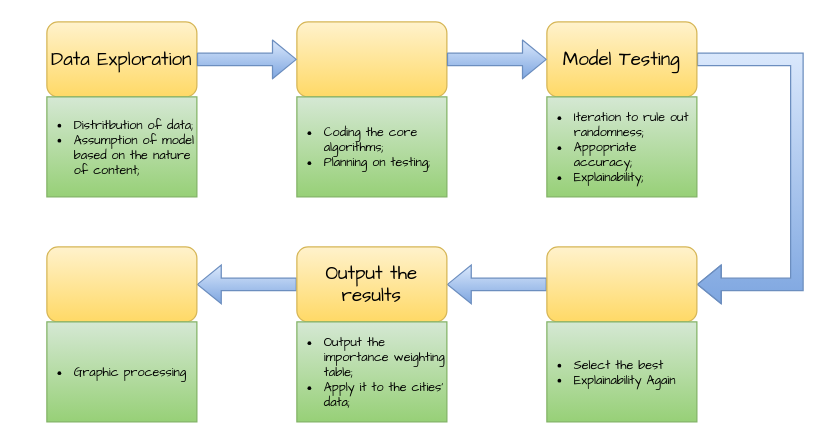
Some shapes in this 825 by 444 pixel diagram are drawn without their labels. Here are the shapes that lost their labels. From the top down, the centre of each, then its label:
the point at 371,59: Model Building
the point at 121,284: Visualization
the point at 621,284: Model Selection
